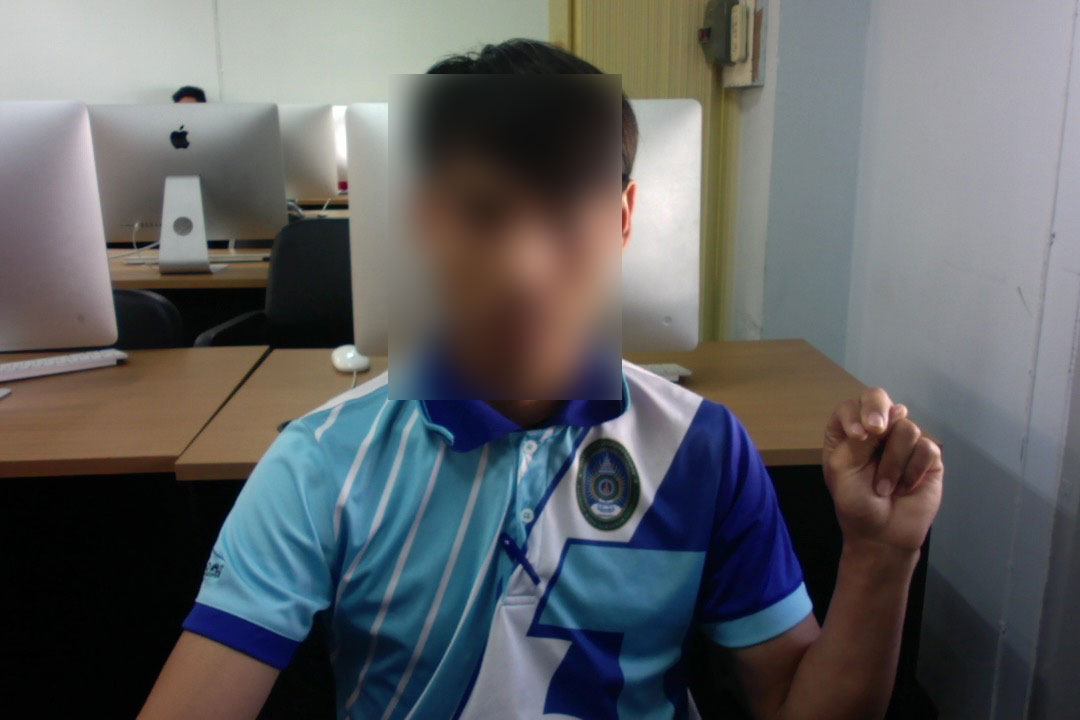nor: (817, 381, 949, 545)
